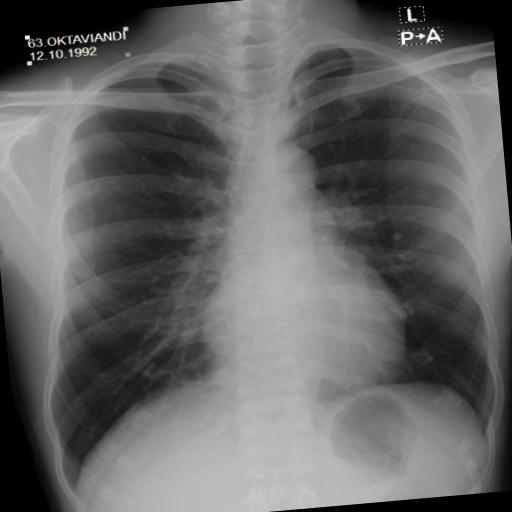normal: (8, 18, 511, 500)
